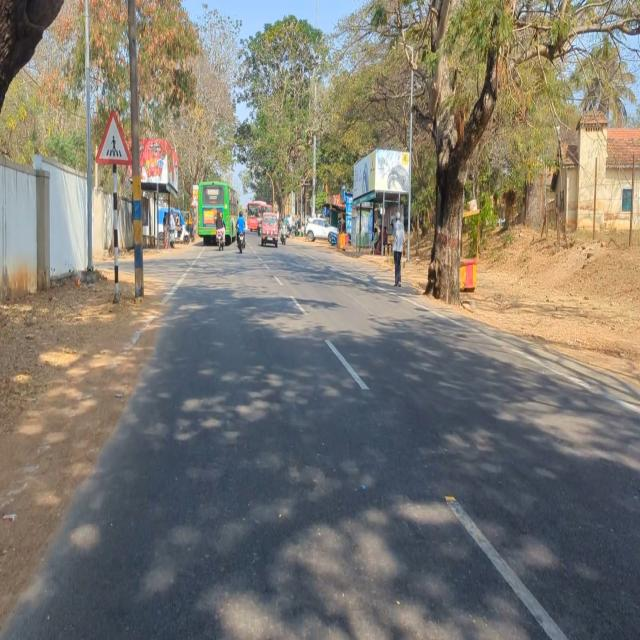bien_cam: (95, 108, 132, 165)
